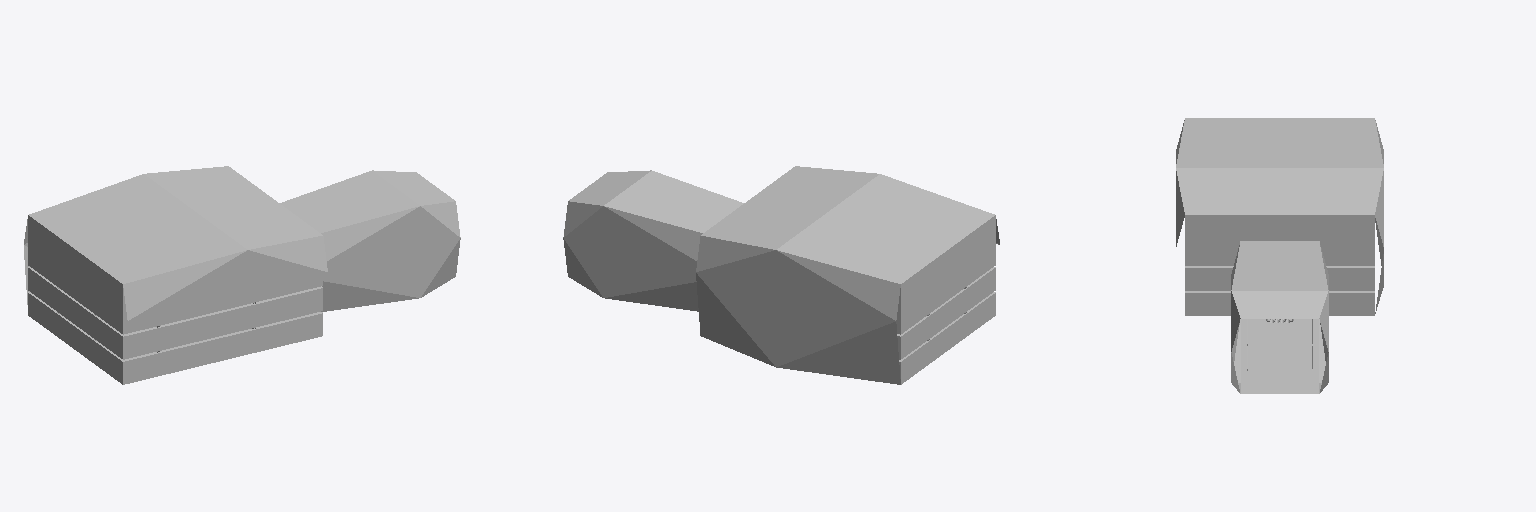
Rendered from Room1.obj.
3 views of the same model, side by side, from view 1: azimuth 30°, elevation 25°; view 2: azimuth 150°, elevation 25°; view 3: azimuth 270°, elevation 25° (orthographic).
Visible parts, largest first — view 1: Cube.016_Cube.005; view 2: Cube.016_Cube.005; view 3: Cube.016_Cube.005.
Boxes of the visible parts, <box> form: Cube.016_Cube.005: <box>24,166,460,384</box>; Cube.016_Cube.005: <box>563,166,999,384</box>; Cube.016_Cube.005: <box>1176,118,1383,393</box>.
Size of the model in its own units: 45 by 14 by 22.5.